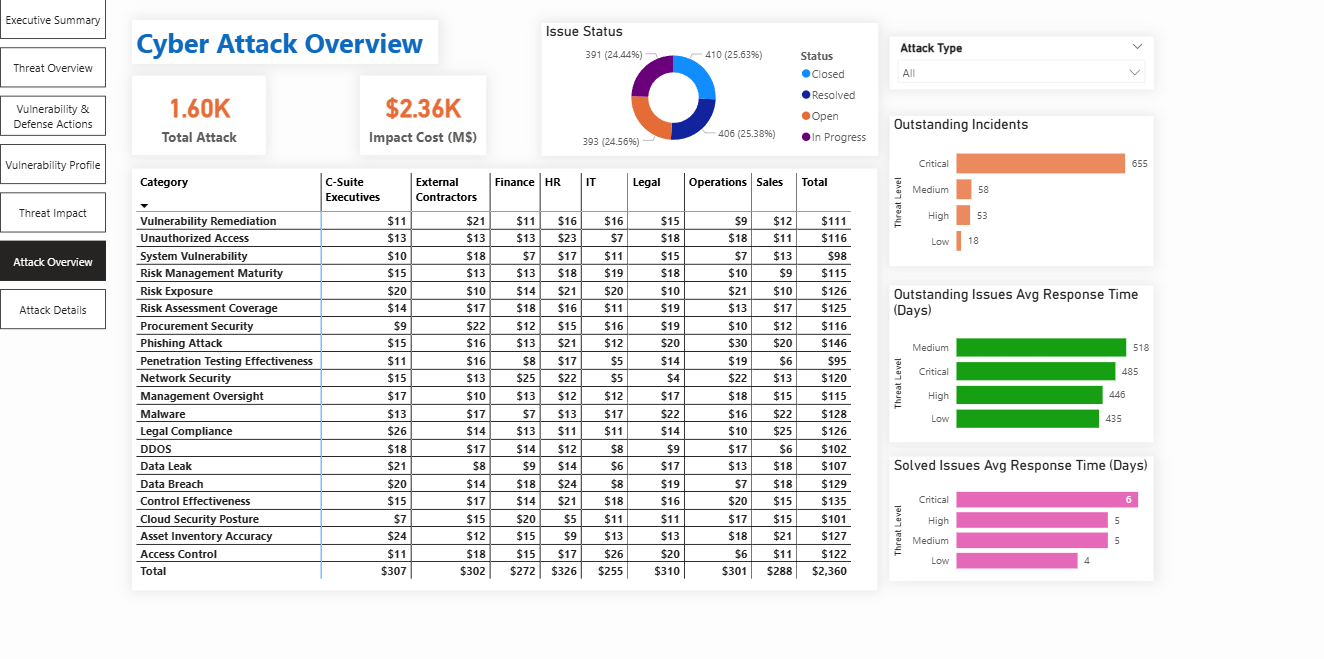

This screenshot's page, from the dashboard's own definition file:
{"tool":"powerbi","page":{"name":"Attack Overview","canvas":[1600,800],"ordinal":5},"visuals":[{"type":"pivotTable","fields":{"Columns":["simulated_attacks_df.Department Affected"],"Rows":["simulated_attacks_df.Category"],"Values":["simulated_attacks_df.Impact Cost (M$)"]},"box":[159.1,203.6,893.9,505.8],"z":0},{"type":"clusteredBarChart","title":"Solved Issues Avg Response Time (Days)","fields":{"Y":["Sum(Threat Level Summary Table.Solved Issues Avg Response Time (Days))"],"Category":["Threat Level Summary Table.Threat Level"]},"box":[1067.3,548.8,316.5,149.5],"z":1000},{"type":"clusteredBarChart","title":"Outstanding Issues Avg Response Time (Days)","fields":{"Y":["Sum(Threat Level Summary Table.Outstanding Issues Avg Response Time (Days))"],"Category":["Threat Level Summary Table.Threat Level"]},"box":[1067.3,343.6,316.5,187.7],"z":2000},{"type":"clusteredBarChart","title":"Outstanding Incidents","fields":{"Y":["Sum(Threat Level Summary Table.Outstanding Incidents)"],"Category":["Threat Level Summary Table.Threat Level"]},"box":[1067.3,140,316.5,179.7],"z":3000},{"type":"slicer","fields":{"Values":["simulated_attacks_df.Attack Type"]},"box":[1067.3,44.5,316.5,63.6],"z":4000},{"type":"donutChart","title":"Issue Status","fields":{"Y":["CountNonNull(simulated_attacks_df.Issue ID)"],"Category":["simulated_attacks_df.Status"]},"box":[649,28.6,404,159.1],"z":5000},{"type":"card","fields":{"Values":["Sum(Threat Level Summary Table.Total Attack Volume)","simulated_attacks_df.Attack Volume Severity","select"]},"box":[159.1,92.3,160.7,95.4],"z":6000},{"type":"card","fields":{"Values":["simulated_attacks_df.Impact Cost (M$)"]},"box":[431.1,92.3,151.1,95.4],"z":7000},{"type":"textbox","box":[159.1,25.4,367.4,52.5],"z":8000},{"type":"pageNavigator","box":[0,0,127.7,399.4],"z":9000}]}

Visuals, with their boxes on the page's 1600x800 design canvas (x1, y1, x2, y2). These are canvas units, not pixel positions in the 1324x659 screenshot, which may show the page scaled, cropped or inside an application window:
pivotTable - simulated_attacks_df.Department Affected x simulated_attacks_df.Category: (159, 204, 1053, 709)
"Solved Issues Avg Response Time (Days)" clusteredBarChart: (1067, 549, 1384, 698)
"Outstanding Issues Avg Response Time (Days)" clusteredBarChart: (1067, 344, 1384, 531)
"Outstanding Incidents" clusteredBarChart: (1067, 140, 1384, 320)
slicer - simulated_attacks_df.Attack Type: (1067, 44, 1384, 108)
"Issue Status" donutChart: (649, 29, 1053, 188)
card - Sum(Threat Level Summary Table.Total Attack Volume) x simulated_attacks_df.Attack Volume Severity: (159, 92, 320, 188)
card - simulated_attacks_df.Impact Cost (M$): (431, 92, 582, 188)
textbox: (159, 25, 526, 78)
pageNavigator: (0, 0, 128, 399)
